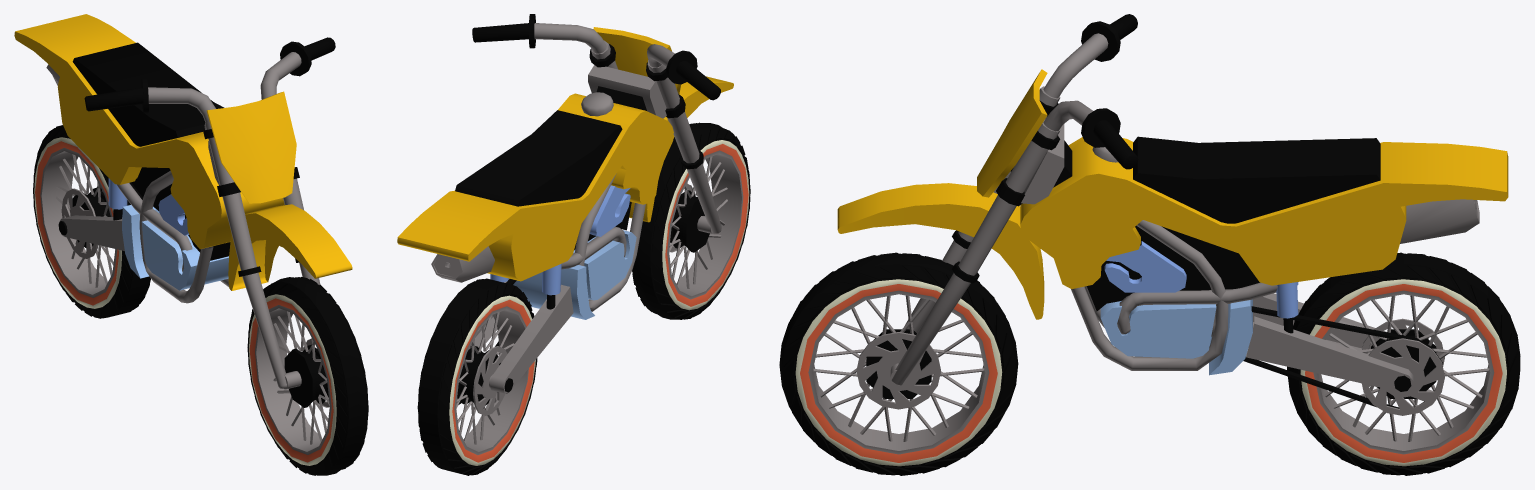
The model's file is bike 4 .fbx.
The picture shows the model from 3 angles, left to right: view 1: azimuth 30°, elevation 25°; view 2: azimuth 150°, elevation 25°; view 3: azimuth 270°, elevation 25°; orthographic projection. The views are drawn at different scales.
Visible parts, largest first — view 1: body.010, tyre.010, tyre.011; view 2: body.010, tyre.011, tyre.010; view 3: body.010, tyre.010, tyre.011.
Boxes of the visible parts, x1=… form: body.010: x1=14, y1=14, x2=352, y2=388; tyre.010: x1=247, y1=277, x2=368, y2=475; tyre.011: x1=33, y1=125, x2=150, y2=318; body.010: x1=397, y1=14, x2=733, y2=404; tyre.011: x1=417, y1=278, x2=537, y2=475; tyre.010: x1=632, y1=122, x2=750, y2=319; body.010: x1=837, y1=14, x2=1508, y2=408; tyre.010: x1=779, y1=252, x2=1018, y2=475; tyre.011: x1=1287, y1=252, x2=1520, y2=475.
Bounding box in the file's own units: 1.04 × 1.37 × 2.27.
